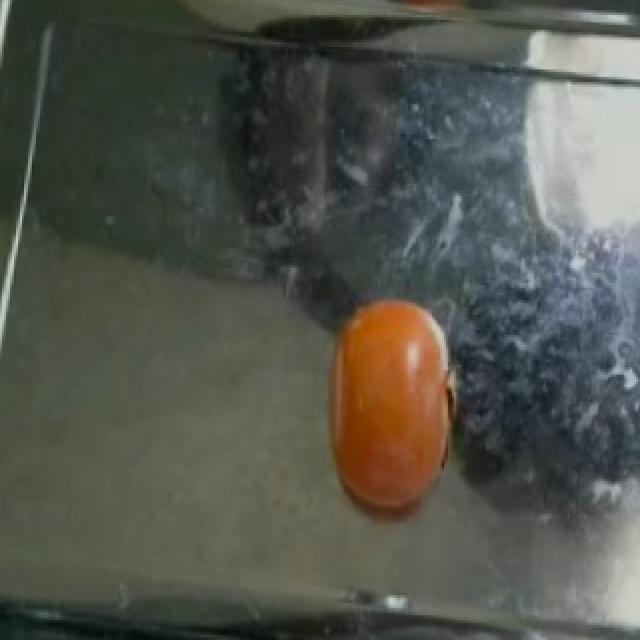Fruit: (308, 283, 472, 531)
